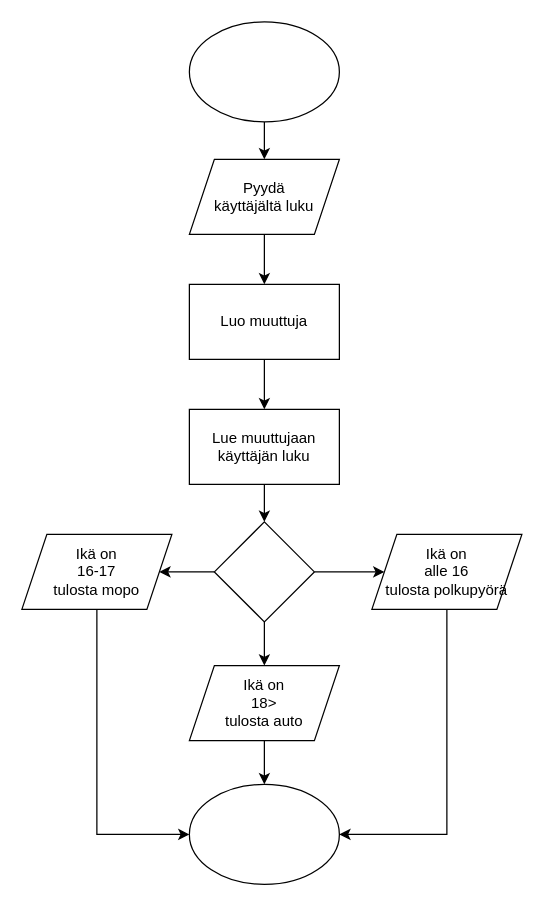
Some shapes in this 544 by 906 pixel diagram are drawn without their labels. The centre of each missing label's shape, as x and y in pixels:
Aloitus HTML-sivu: the point at 263,71
Kysy käyttäjän ikä: the point at 263,571
The End: the point at 263,833
